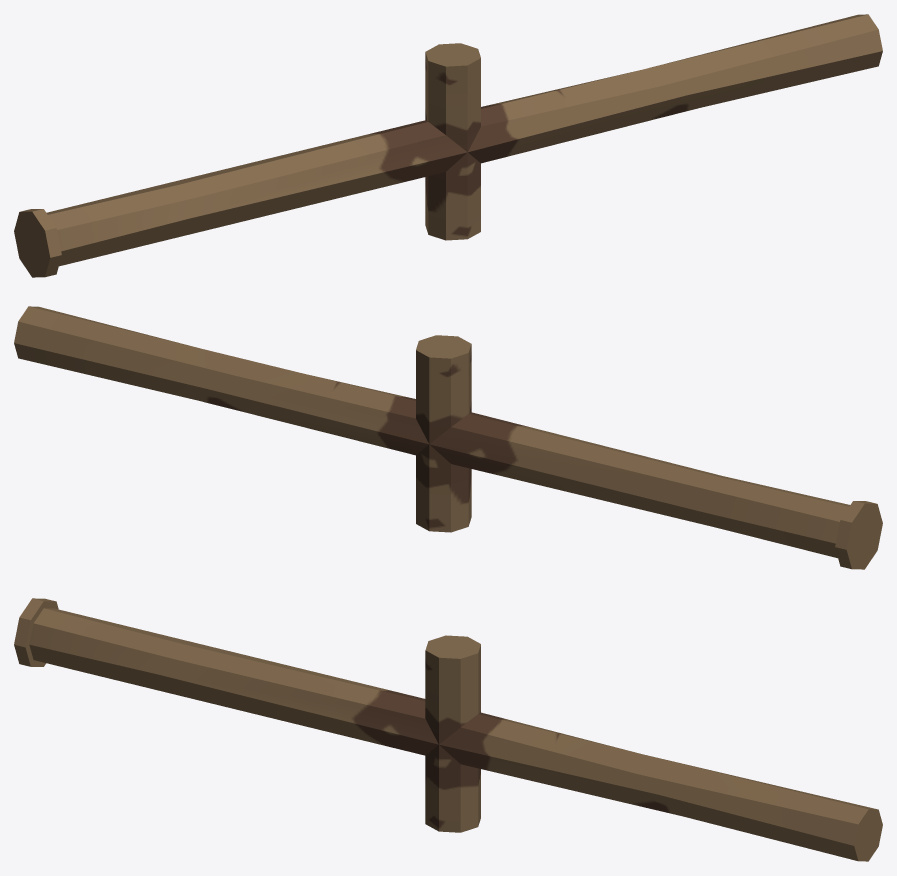
Rendered from SM_Prop_Pipe_02_Cross_01.fbx.
3 renders of one model, top to bottom at view 1: azimuth 30°, elevation 25°; view 2: azimuth 150°, elevation 25°; view 3: azimuth 330°, elevation 25°, orthographic.
Parts seen in each view (by area): view 1: SM_Prop_Pipe_02_Cross_01; view 2: SM_Prop_Pipe_02_Cross_01; view 3: SM_Prop_Pipe_02_Cross_01.
Part boxes in pixels (box(x1,y1,x2,y2)): SM_Prop_Pipe_02_Cross_01: box(14, 14, 882, 277); SM_Prop_Pipe_02_Cross_01: box(14, 306, 882, 569); SM_Prop_Pipe_02_Cross_01: box(14, 598, 882, 861).
Bounding box in the file's own units: 252 × 50 × 18.95.
